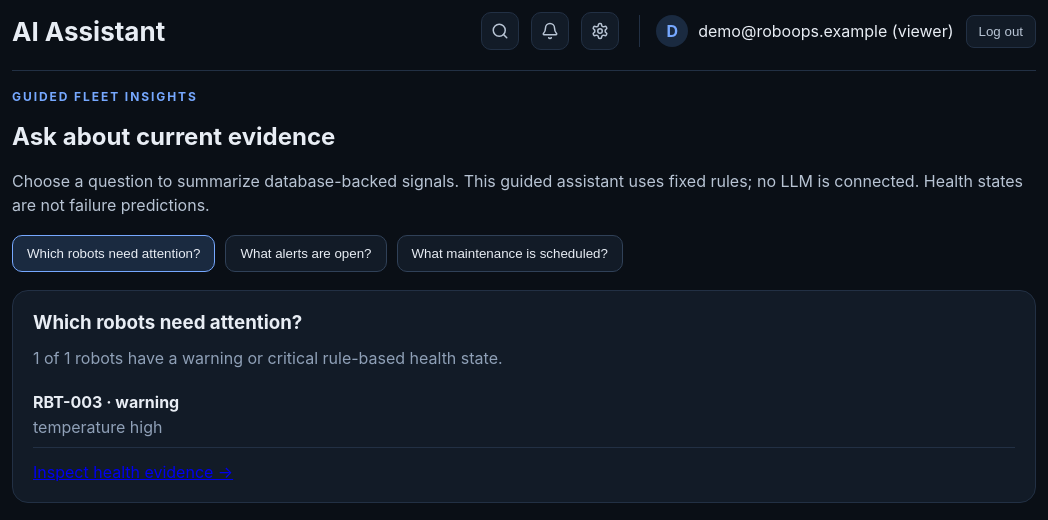
Test case: operational workspaces › answers guided questions from returned evidence and discloses no LLM
Expected: the text "1 of 1 robots" is shown, [33,348,503,368]
Expected: the text "no LLM is connected" is shown, [12,171,1023,215]
Click the button "What alerts are open?": coordinates (306, 254) [225,235,386,272]
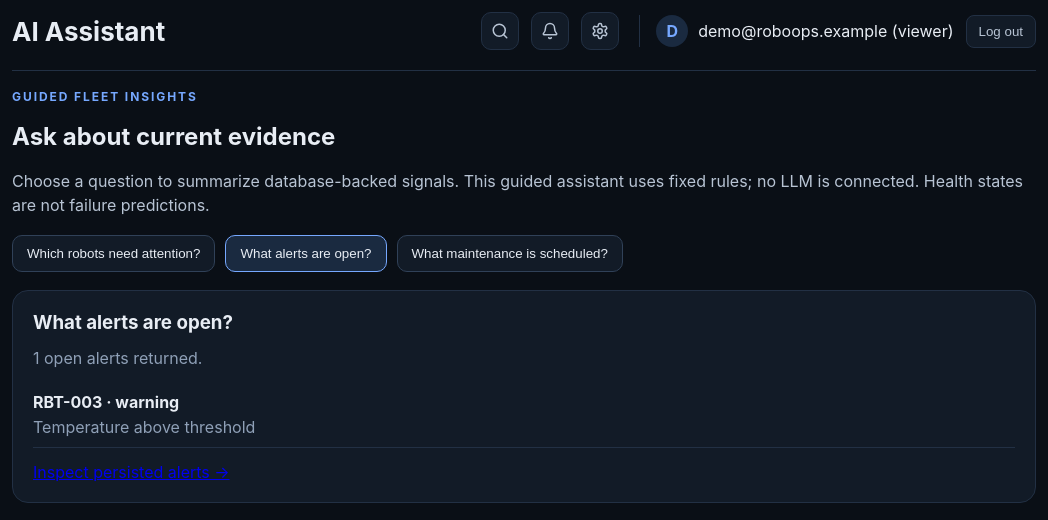
Result: the text "Temperature above threshold" is shown at [33,417,255,437]
Click the button "What maintenance is scheduled?": coordinates (510, 254) [396,235,623,272]
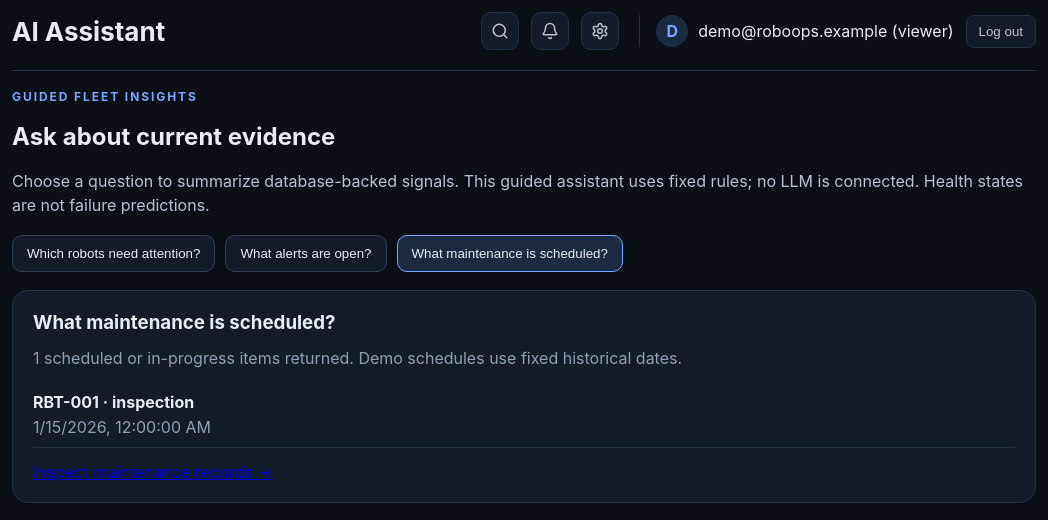
Result: the text "fixed historical dates" is shown at [40,348,682,368]
